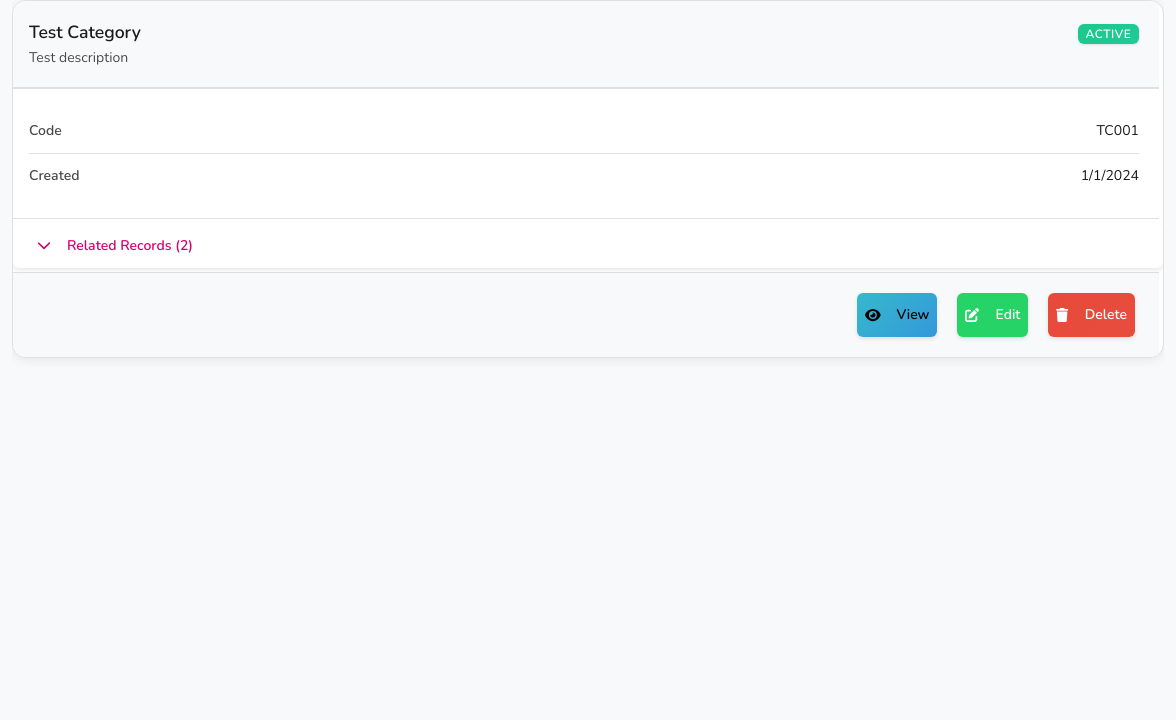
Test: MobileDataCard › renders related records when provided
Expand to see related records
Click the button "Related Records (2)".
click(130, 245)  # box [13, 223, 1163, 268]
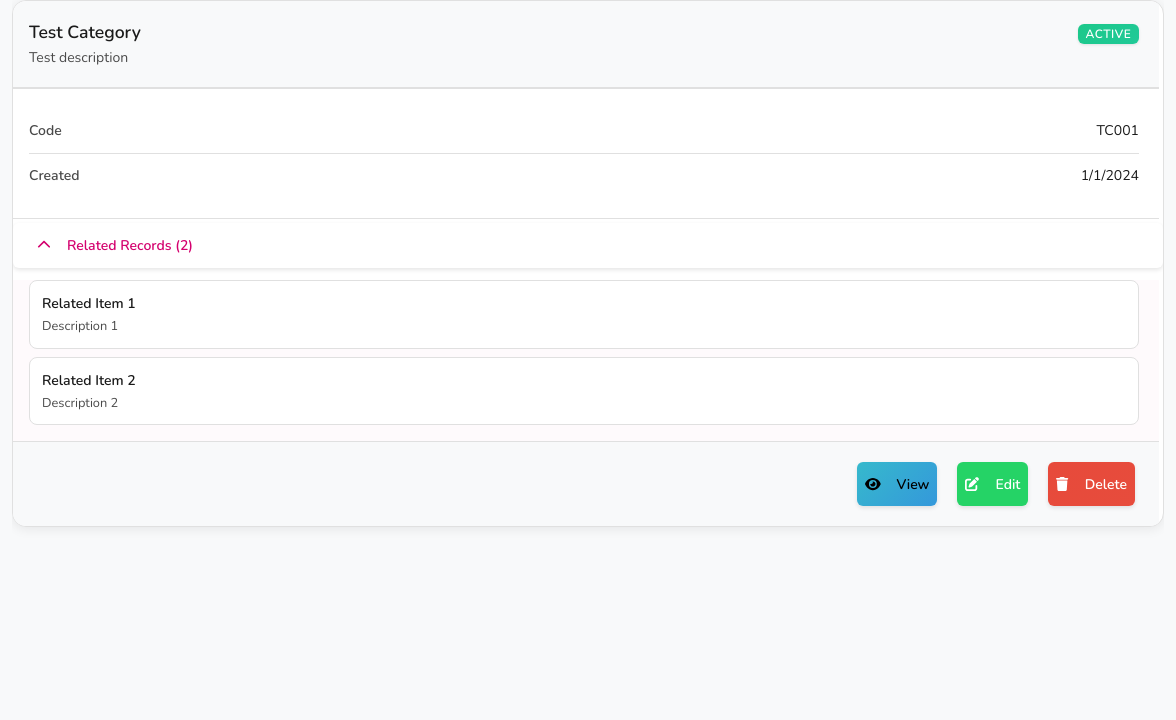
Now the text "Related Item 1" is shown, box [42, 294, 136, 313]
Now the text "Related Item 2" is shown, box [42, 370, 136, 390]
